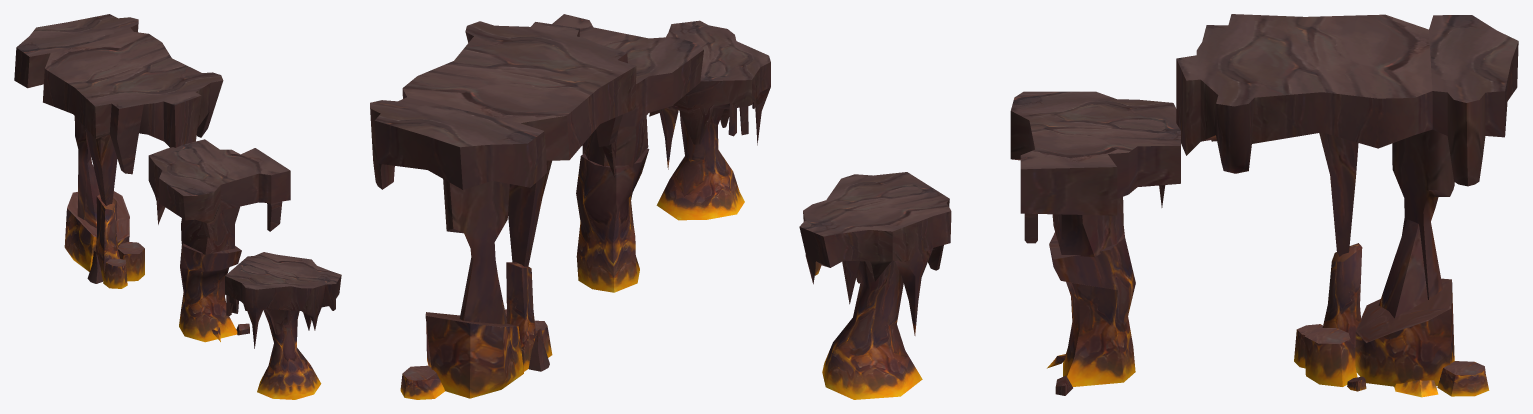
File: FB6_yuanjinshibi.FBX
3 views of the same model, side by side, from view 1: azimuth 30°, elevation 25°; view 2: azimuth 150°, elevation 25°; view 3: azimuth 270°, elevation 25° (orthographic). The views are drawn at different scales.
Parts seen in each view (by area): view 1: FB6_yuanjinshibi03, FB6_yuanjinshibi02, FB6_yuanjinshibi01; view 2: FB6_yuanjinshibi03, FB6_yuanjinshibi02, FB6_yuanjinshibi01; view 3: FB6_yuanjinshibi03, FB6_yuanjinshibi02, FB6_yuanjinshibi01.
Boxes of the visible parts, box(x1,y1,x2,y2) form: FB6_yuanjinshibi03: box(14, 14, 223, 288); FB6_yuanjinshibi02: box(148, 139, 290, 342); FB6_yuanjinshibi01: box(225, 252, 341, 399); FB6_yuanjinshibi03: box(370, 21, 636, 399); FB6_yuanjinshibi02: box(552, 14, 703, 292); FB6_yuanjinshibi01: box(656, 20, 770, 220); FB6_yuanjinshibi03: box(1176, 14, 1518, 397); FB6_yuanjinshibi02: box(1010, 91, 1180, 395); FB6_yuanjinshibi01: box(799, 172, 951, 399).
Size of the model in its own units: 1825 by 2853 by 5942.
